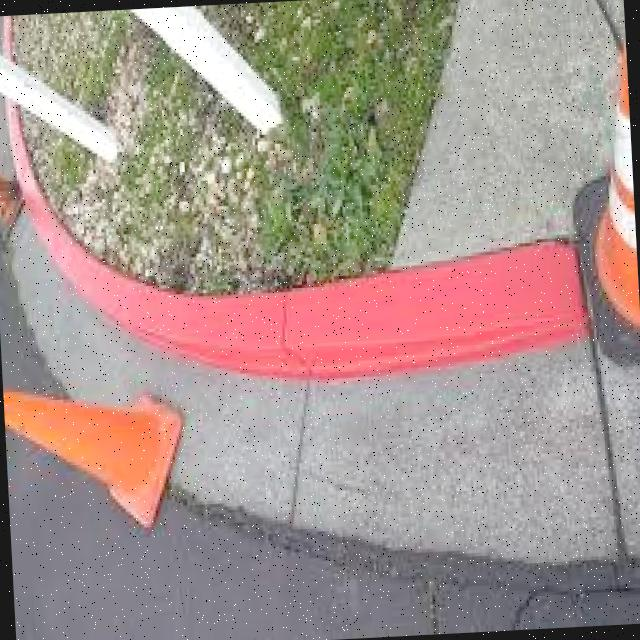curb: (276, 240, 582, 392), (78, 248, 288, 387), (3, 120, 93, 299)
